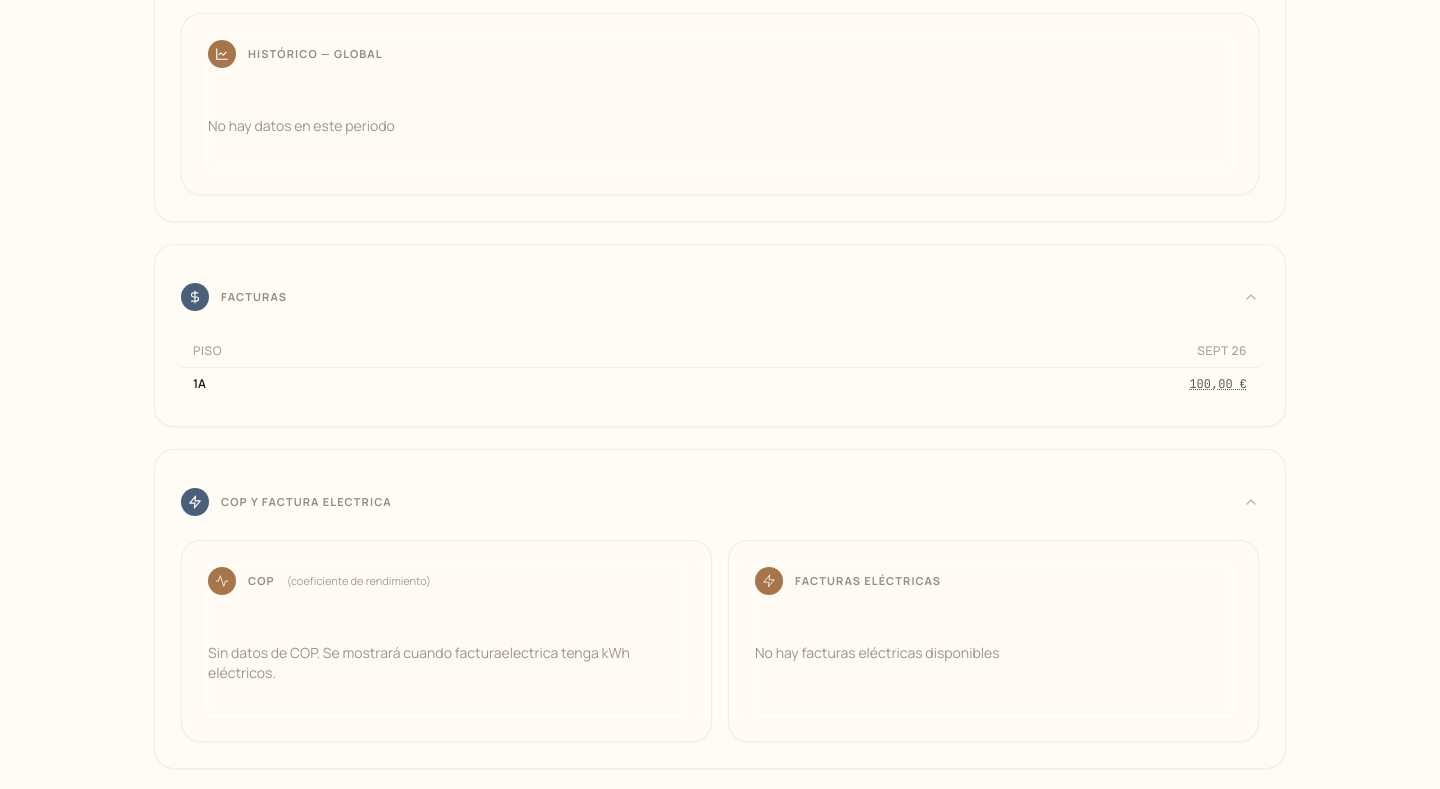
Test: AdminAerotermiaPage › muestra error al fallar la descarga
The width and height of the screenshot is (1440, 789).
(page scrolled)
Click the button "100,00 €".
click(1218, 384)  # box [1189, 376, 1247, 392]
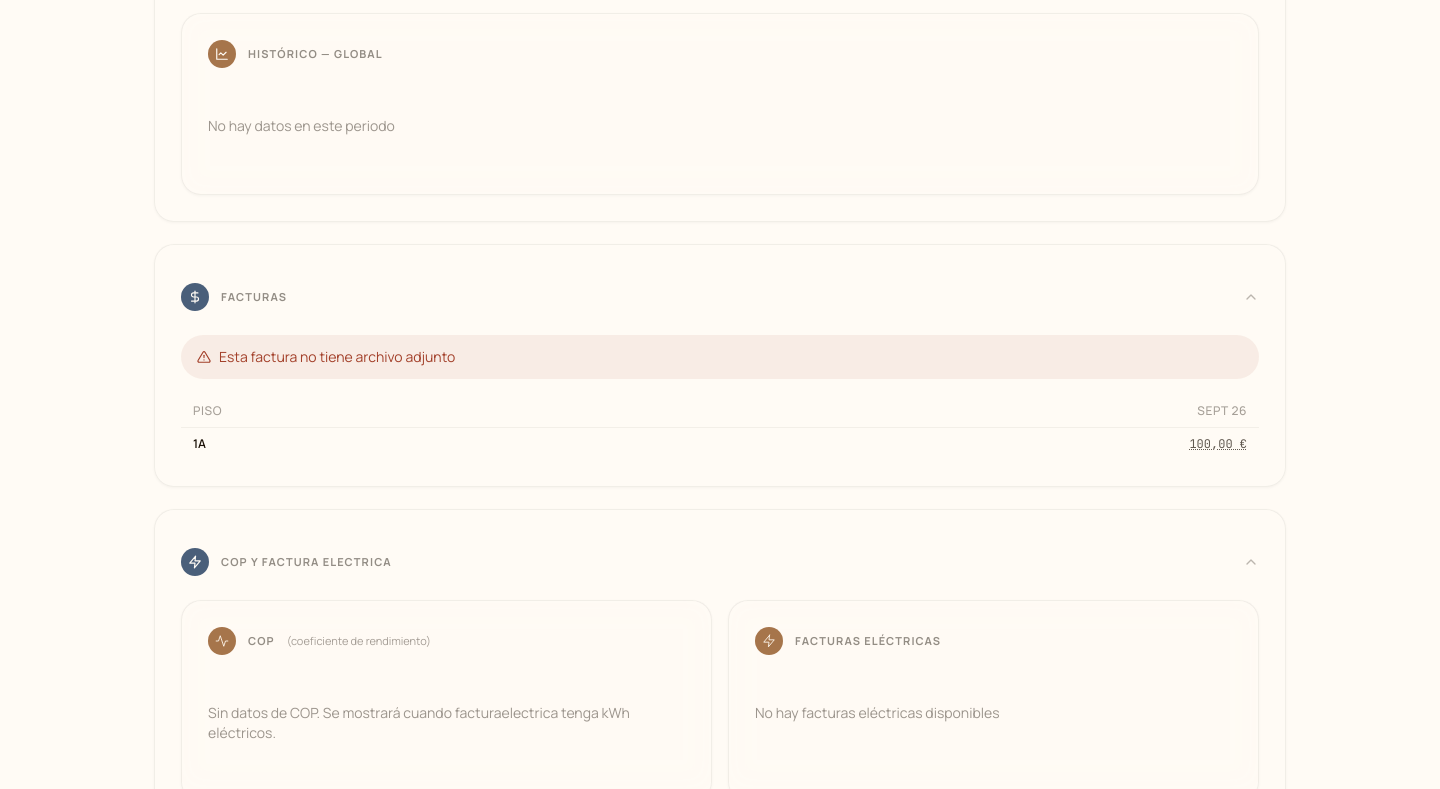
Check: the text "Esta factura no tiene archivo adjunto" is shown, box [181, 335, 1259, 379]
